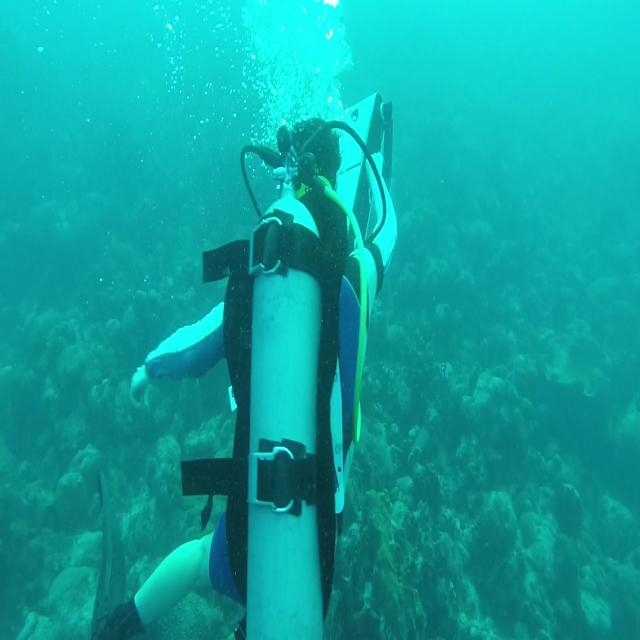human: (91, 91, 398, 638)
